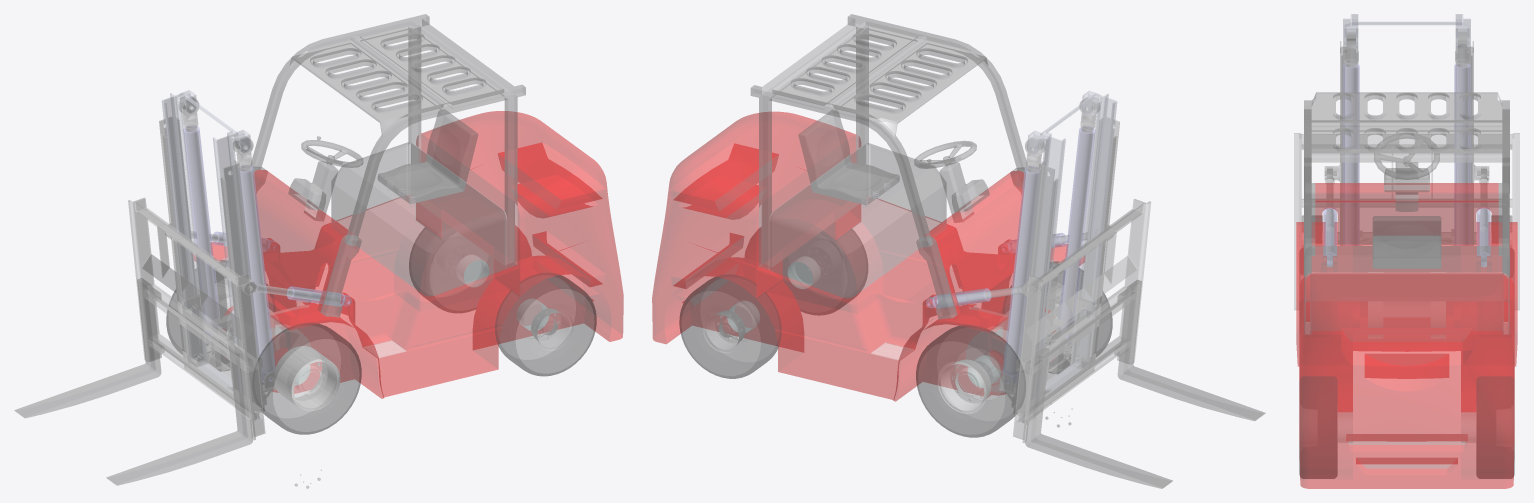
File: car2.glb
3 views of the same model, side by side, from view 1: azimuth 30°, elevation 25°; view 2: azimuth 150°, elevation 25°; view 3: azimuth 270°, elevation 25° (orthographic). The views are drawn at different scales.
Parts seen in each view (by area): view 1: 35.001, Բ4.001, г_5.009, Բ17.001, Բ18.001, г_7.001, Բ15.001, г_ת3.001, Բ5.002, Բ5.003, г_5.005, ת2_1_.001 (+6 smaller); view 2: 35.001, Բ4.001, Բ16.001, г_5.009, Բ15.001, г_7.001, Բ18.001, г_ת3.001, Բ5.003, Բ5.002, г_5.006, г_5.005 (+5 smaller); view 3: 35.001, Բ4.001, Բ18.001, Բ15.001, г_ת3.001, г_5.005, г_5.006, г_7.001, г_5.009, 6.004, 6.007, г_5.007 (+5 smaller).
Part boxes in pixels (bbox=[...]): 35.001: bbox=[193, 14, 623, 398]; Բ4.001: bbox=[128, 198, 265, 439]; г_5.009: bbox=[162, 90, 251, 393]; Բ17.001: bbox=[252, 323, 361, 434]; Բ18.001: bbox=[495, 273, 596, 376]; г_7.001: bbox=[159, 117, 285, 412]; Բ15.001: bbox=[409, 221, 493, 312]; г_ת3.001: bbox=[378, 109, 477, 203]; Բ5.002: bbox=[14, 278, 164, 417]; Բ5.003: bbox=[106, 345, 256, 485]; г_5.005: bbox=[238, 165, 274, 382]; ת2_1_.001: bbox=[274, 346, 339, 410]; 35.001: bbox=[652, 14, 1084, 401]; Բ4.001: bbox=[1013, 199, 1150, 442]; Բ16.001: bbox=[916, 325, 1025, 437]; г_5.009: bbox=[1027, 91, 1116, 396]; Բ15.001: bbox=[679, 274, 781, 378]; г_7.001: bbox=[992, 117, 1119, 414]; Բ18.001: bbox=[783, 222, 867, 315]; г_ת3.001: bbox=[798, 110, 899, 204]; Բ5.003: bbox=[1114, 280, 1265, 420]; Բ5.002: bbox=[1021, 347, 1172, 488]; г_5.006: bbox=[1003, 166, 1039, 384]; г_5.005: bbox=[1058, 126, 1094, 344]; 35.001: bbox=[1296, 92, 1517, 488]; Բ4.001: bbox=[1294, 133, 1519, 309]; Բ18.001: bbox=[1299, 376, 1337, 478]; Բ15.001: bbox=[1476, 376, 1514, 478]; г_ת3.001: bbox=[1372, 216, 1441, 268]; г_5.005: bbox=[1343, 64, 1359, 245]; г_5.006: bbox=[1454, 64, 1470, 245]; г_7.001: bbox=[1324, 41, 1489, 245]; г_5.009: bbox=[1343, 14, 1470, 67]; 6.004: bbox=[1455, 30, 1469, 182]; 6.007: bbox=[1344, 30, 1358, 182]; г_5.007: bbox=[1477, 207, 1490, 266].
Size of the model in its own units: 28.83 by 19.07 by 10.63.
